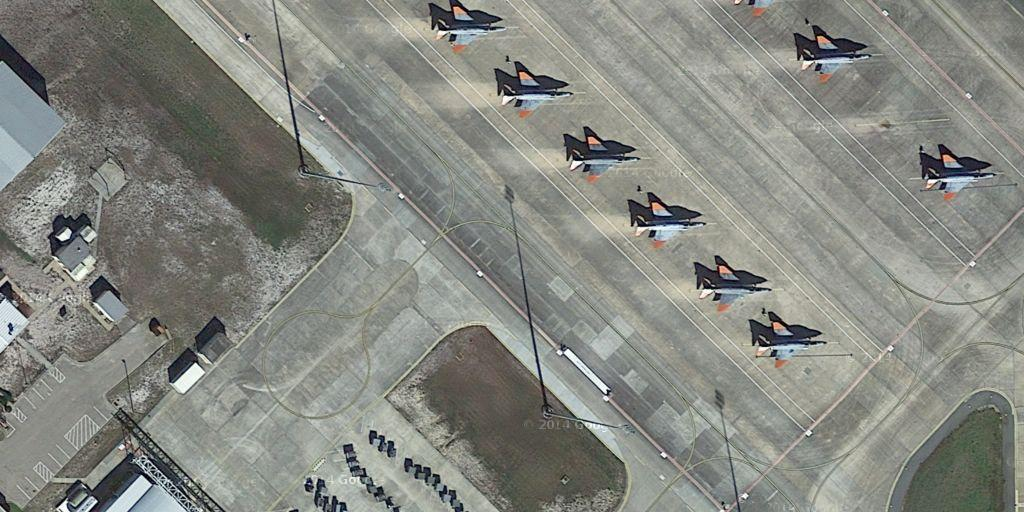plane: (494, 57, 580, 123), (916, 147, 1003, 206), (752, 316, 843, 372), (561, 129, 647, 188), (694, 256, 776, 317), (625, 196, 711, 252), (427, 3, 517, 56), (798, 28, 878, 87)
